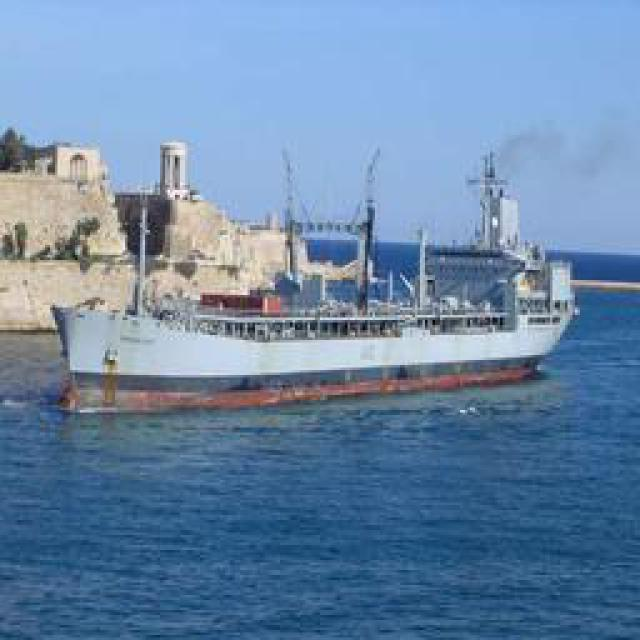Ship: (39, 136, 572, 416)
